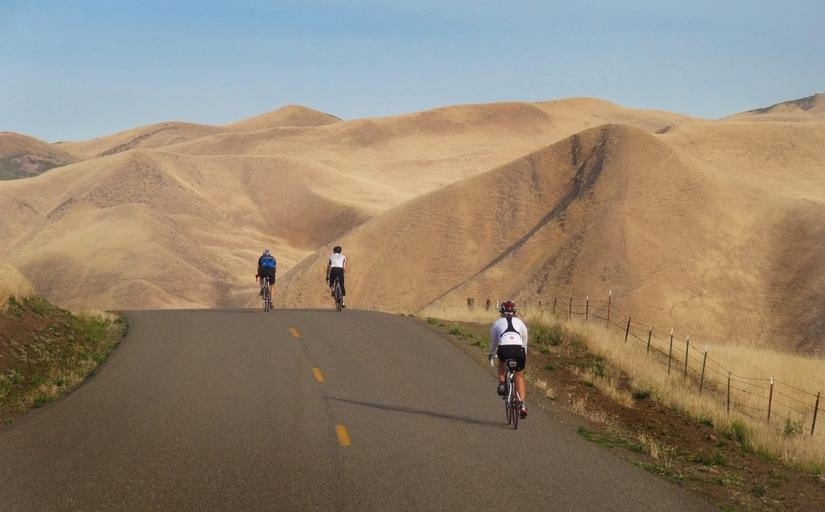non-vehicle: (488, 354, 527, 429), (325, 277, 345, 312), (255, 274, 273, 311)
